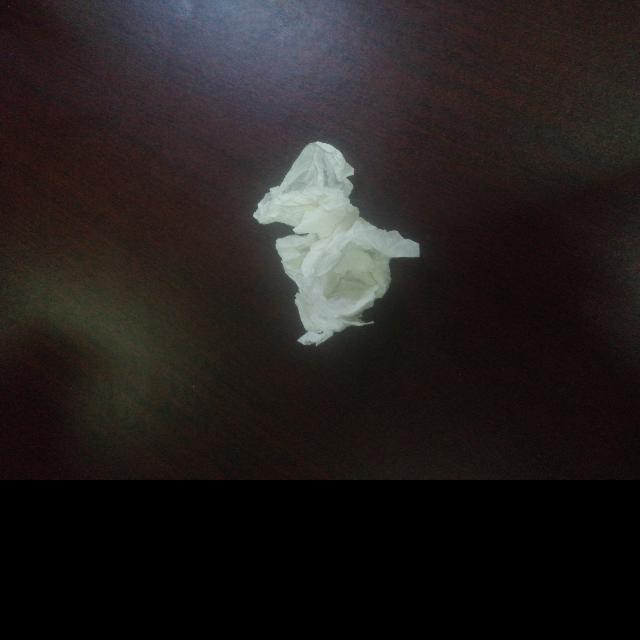kitchen paper: (250, 138, 428, 352)
